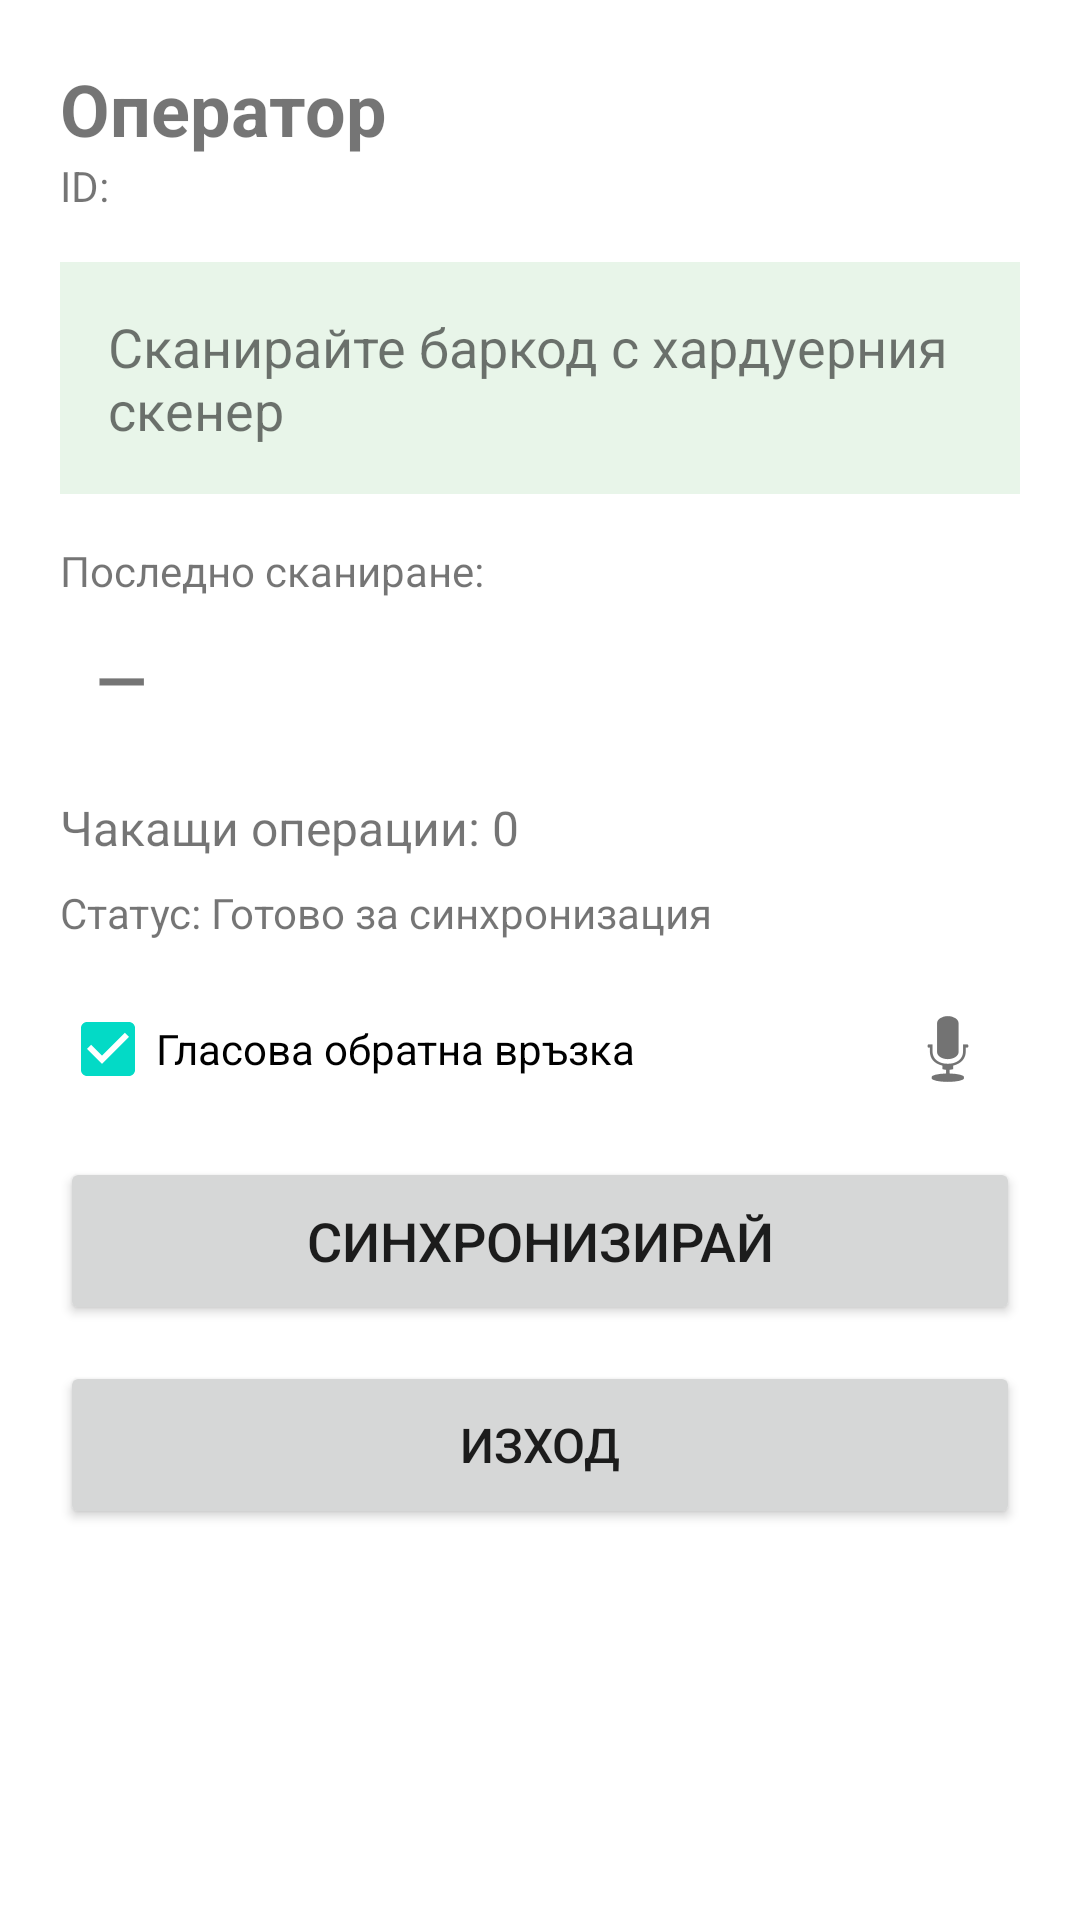

Screen size 1080 × 1920. Icon name, then its center in pixels as [x,y]:
Гласова команда: [948,1049]
